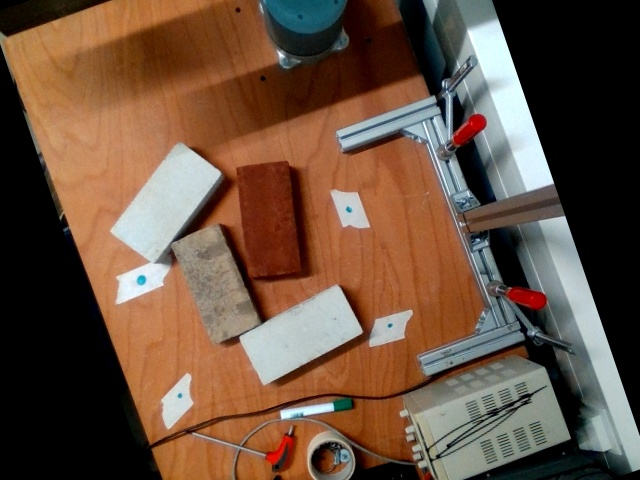brick: (110, 142, 218, 261), (237, 287, 361, 385), (168, 224, 259, 346), (235, 162, 300, 277)
